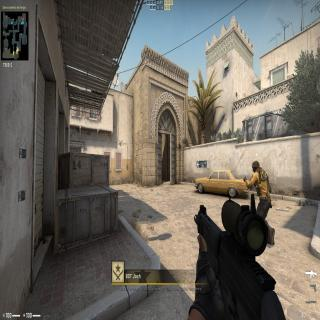T-Head: (252, 160, 260, 173)
